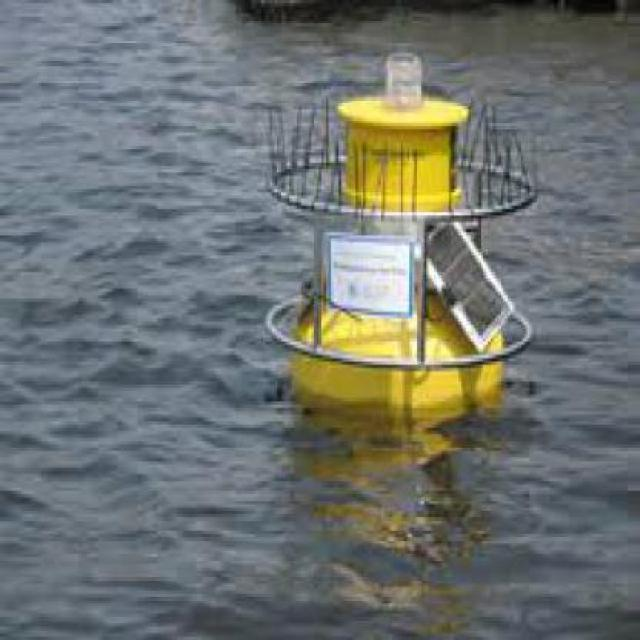buoy: (247, 31, 561, 436)
